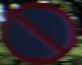No waiting: (1, 4, 75, 56)
